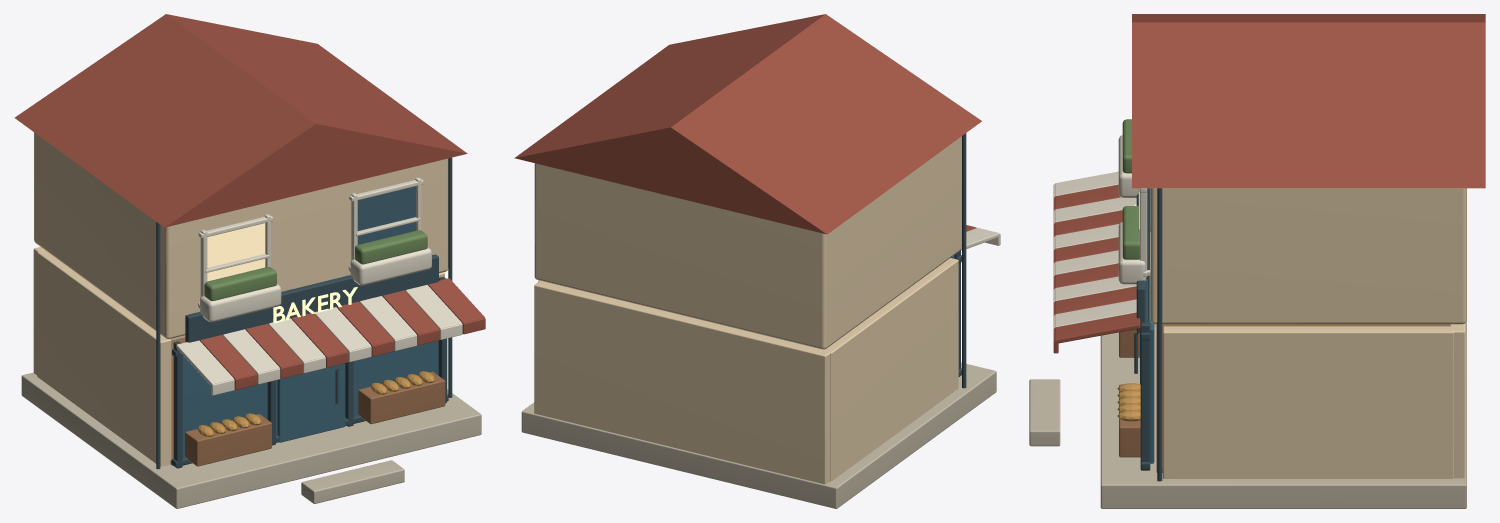
Rendered from bakery.glb.
The picture shows the model from 3 angles, left to right: view 1: azimuth 30°, elevation 25°; view 2: azimuth 150°, elevation 25°; view 3: azimuth 270°, elevation 25°; orthographic projection. The views are drawn at different scales.
Visible parts, largest first — view 1: bakery_Gable_Roof, bakery_Upper_Residence, bakery_Shop_Side_Wall, bakery_Shop_Plinth, bakery_Shopfront_Recess, bakery_Sign_Backplate, bakery_Entrance_Door, bakery_Display_Counter.001, bakery_Display_Counter, bakery_Shop_Step, bakery_Window_Recess.001, bakery_Window_Recess (+22 smaller); view 2: bakery_Gable_Roof, bakery_Upper_Residence, bakery_Rear_Shop_Wall, bakery_Shop_Side_Wall, bakery_Shop_Plinth, bakery_Rain_Downpipe; view 3: bakery_Gable_Roof, bakery_Shop_Side_Wall.001, bakery_Upper_Residence, bakery_Shop_Plinth, bakery_Shop_Step, bakery_Rear_Shop_Wall, bakery_Rain_Downpipe.001, bakery_Shopfront_Mullion.003, bakery_Striped_Canvas.011, bakery_Shop_Interior_Floor, bakery_Striped_Canvas.010, bakery_Striped_Canvas.009 (+16 smaller).
Part boxes in pixels (bbox=[...]): bakery_Gable_Roof: bbox=[14, 14, 467, 227]; bakery_Upper_Residence: bbox=[34, 132, 448, 338]; bakery_Shop_Side_Wall: bbox=[37, 250, 171, 466]; bakery_Shop_Plinth: bbox=[21, 372, 481, 508]; bakery_Shopfront_Recess: bbox=[182, 340, 438, 456]; bakery_Sign_Backplate: bbox=[185, 254, 438, 342]; bakery_Entrance_Door: bbox=[277, 363, 345, 442]; bakery_Display_Counter.001: bbox=[358, 371, 445, 424]; bakery_Display_Counter: bbox=[185, 414, 271, 466]; bakery_Shop_Step: bbox=[301, 460, 404, 503]; bakery_Window_Recess.001: bbox=[357, 186, 415, 244]; bakery_Window_Recess: bbox=[207, 223, 265, 281]; bakery_Gable_Roof: bbox=[514, 14, 981, 234]; bakery_Upper_Residence: bbox=[534, 136, 961, 349]; bakery_Rear_Shop_Wall: bbox=[534, 281, 830, 484]; bakery_Shop_Side_Wall: bbox=[822, 258, 958, 481]; bakery_Shop_Plinth: bbox=[521, 362, 996, 508]; bakery_Rain_Downpipe: bbox=[962, 133, 966, 388]; bakery_Gable_Roof: bbox=[1132, 14, 1485, 188]; bakery_Shop_Side_Wall.001: bbox=[1163, 326, 1454, 478]; bakery_Upper_Residence: bbox=[1150, 188, 1466, 324]; bakery_Shop_Plinth: bbox=[1100, 320, 1466, 508]; bakery_Shop_Step: bbox=[1029, 379, 1060, 446]; bakery_Rear_Shop_Wall: bbox=[1450, 323, 1465, 478]; bakery_Rain_Downpipe.001: bbox=[1157, 188, 1162, 481]; bakery_Shopfront_Mullion.003: bbox=[1140, 322, 1150, 470]; bakery_Striped_Canvas.011: bbox=[1055, 312, 1140, 343]; bakery_Shop_Interior_Floor: bbox=[1156, 324, 1449, 472]; bakery_Striped_Canvas.010: bbox=[1055, 299, 1136, 327]; bakery_Striped_Canvas.009: bbox=[1055, 286, 1136, 314].
Bounding box in the file's own units: 6.7 × 7.1 × 7.35.
